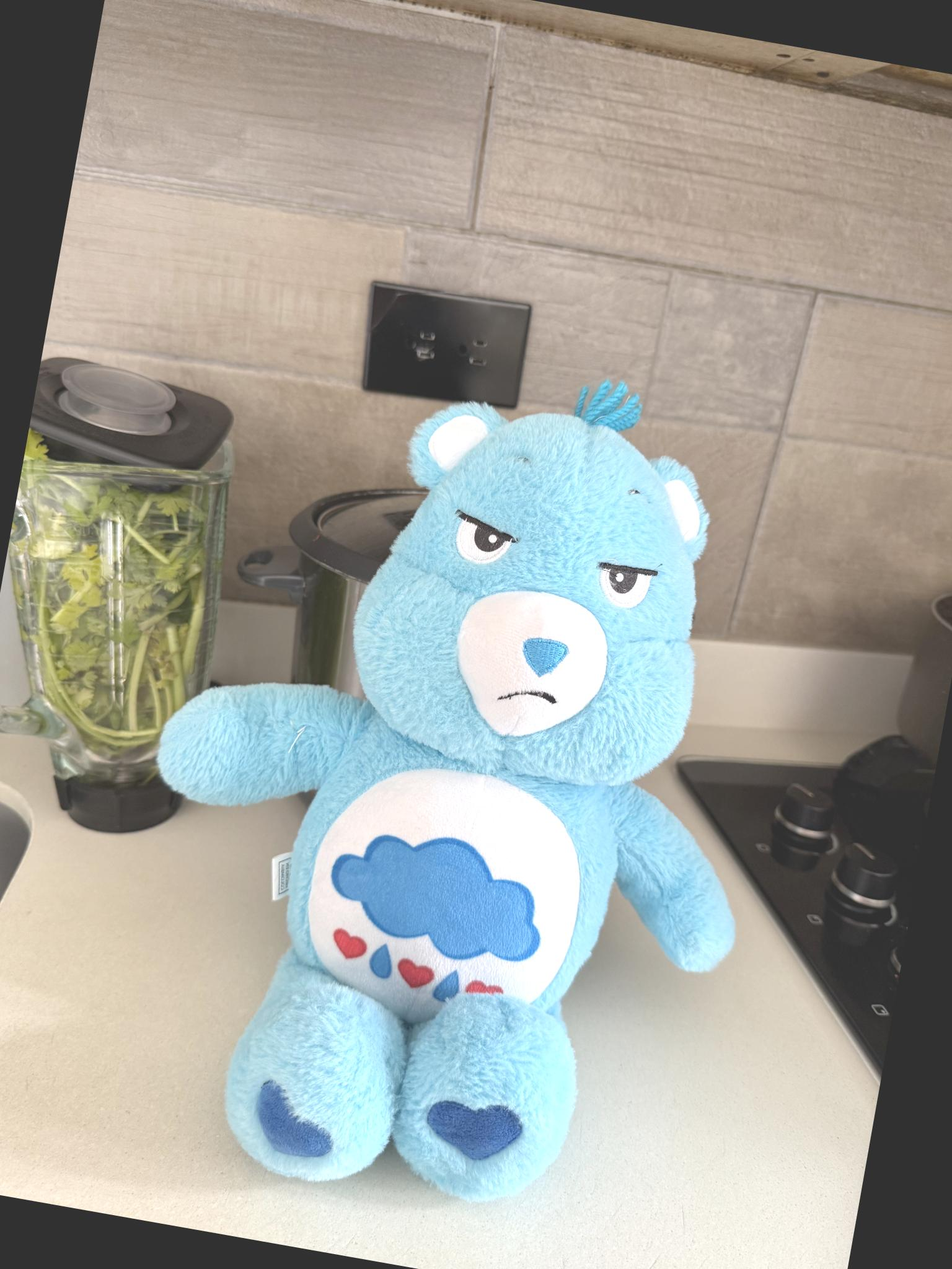peluche_Juan Jose: (203, 375, 753, 1246)
